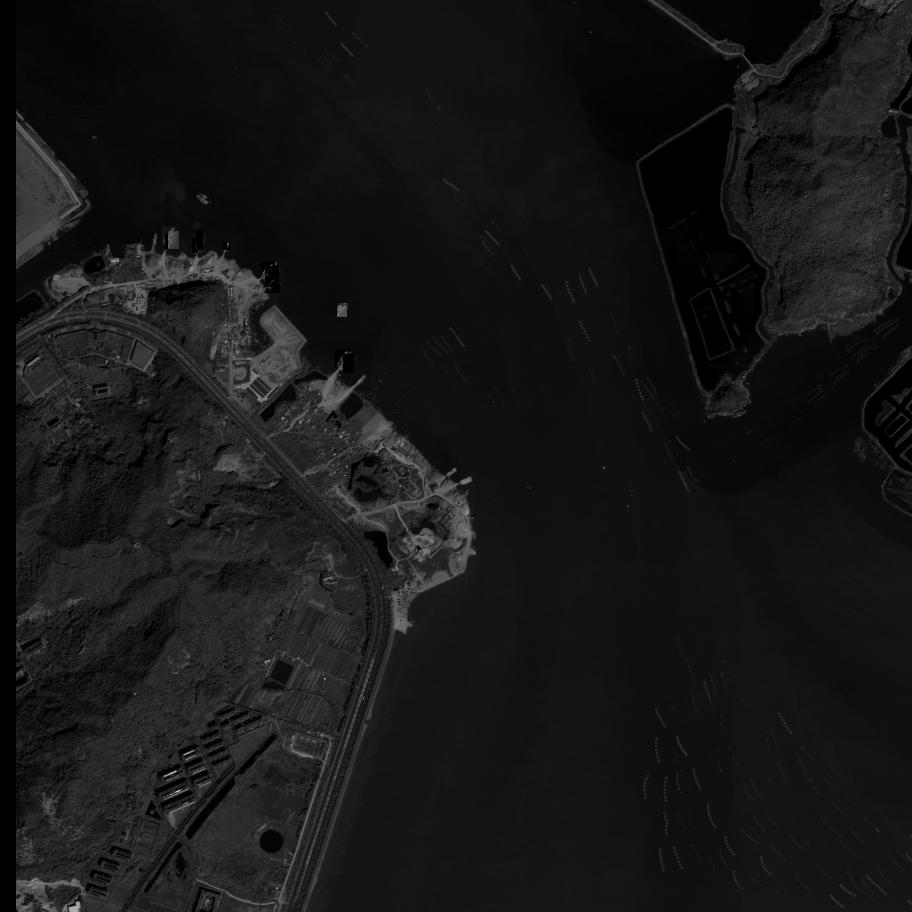ship: (336, 349, 351, 368), (195, 195, 213, 210), (265, 267, 280, 284), (162, 226, 175, 245), (343, 354, 355, 374), (261, 262, 278, 274), (267, 281, 281, 295), (198, 193, 213, 205), (169, 232, 179, 250), (165, 233, 174, 250), (197, 231, 204, 250), (337, 306, 348, 318), (267, 279, 279, 289), (339, 303, 349, 313), (192, 238, 199, 252), (153, 234, 157, 245), (226, 244, 231, 251), (224, 242, 228, 250), (93, 137, 98, 138), (52, 250, 53, 251), (81, 118, 81, 118)
